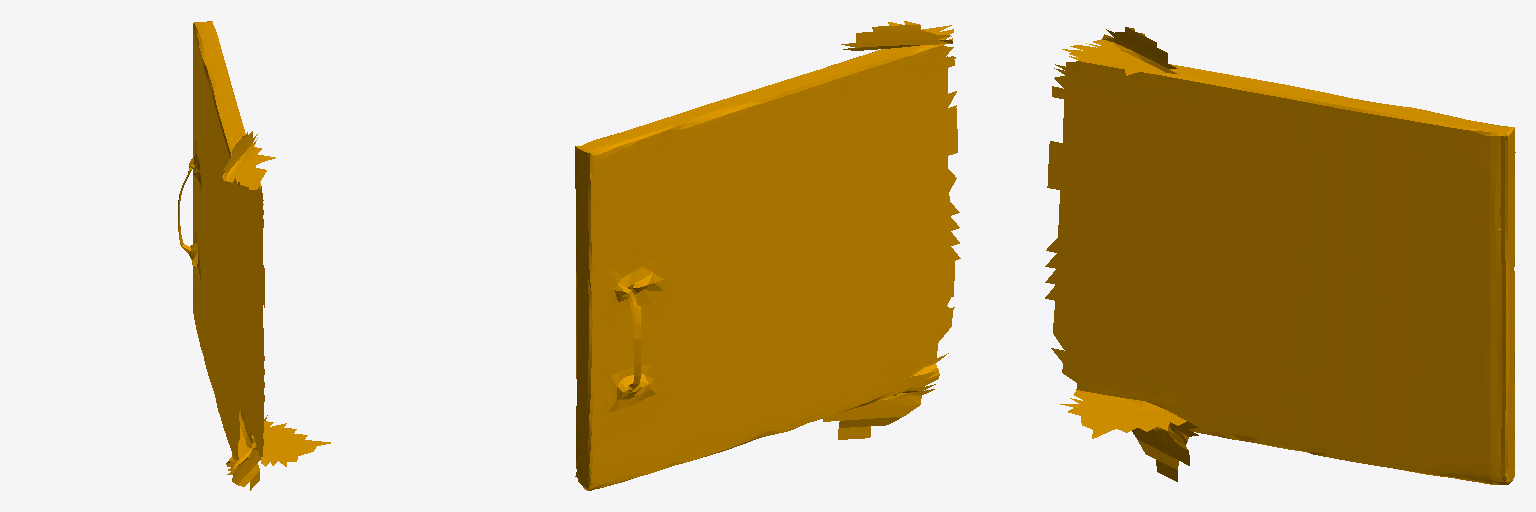
URDF robot description (object):
<?xml version="1.0" ?>
<robot name="object">
    <link name="base_link">
        <inertial>
            <origin xyz="0 0 0" rpy="0 0 0" />
            <mass value="10.0" />
            <inertia ixx="1.0" ixy="0.0" ixz="0.0" iyy="1.0" iyz="0.0" izz="1.0" />
        </inertial>
        <visual>
            <origin xyz="0.150135 0.056365 0.048858" rpy="0.000000 -0.000000 -1.410006" />
            <geometry>
                <mesh filename="visual/part_1/mesh.obj" scale="0.4103 0.4103 0.4103" />
            </geometry>
        </visual>
        <collision>
            <origin xyz="0.150135 0.056365 0.048858" rpy="0.000000 -0.000000 -1.410006" />
            <geometry>
                <mesh filename="collision/part_1_0.obj" scale="0.4103 0.4103 0.4103" />
            </geometry>
        </collision>
    </link>
    <joint name="base_joint" type="fixed">
        <parent link="base_link" />
        <child link="part_1" />
        <origin xyz="0 0 0" rpy="0 0 0" />
    </joint>
    <link name="part_1">
        <inertial>
            <origin xyz="0 0 0" rpy="0 0 0" />
            <mass value="0.1" />
            <inertia ixx="0.01" ixy="0.0" ixz="0.0" iyy="0.01" iyz="0.0" izz="0.01" />
        </inertial>
    </link>
</robot>

--- What the picture shows (computed from the rendered views, not written in the file) ---
The picture shows the robot from 3 angles, left to right: view 1: azimuth 30°, elevation 25°; view 2: azimuth 150°, elevation 25°; view 3: azimuth 270°, elevation 25°; orthographic projection.
Model object with 2 links and 1 joints (1 fixed), rooted at base_link, posed every joint at zero.
Visible links, largest first — view 1: base_link; view 2: base_link; view 3: base_link.
Boxes of the visible links, <box> form: base_link: <box>178,21,330,490</box>; base_link: <box>575,21,960,490</box>; base_link: <box>1045,27,1515,484</box>.
Size in the robot's own frame: 0.0572 by 0.1222 by 0.1237 metres.
Meshes: 1 distinct files referenced, 1 mesh visuals loaded (1 OBJ).